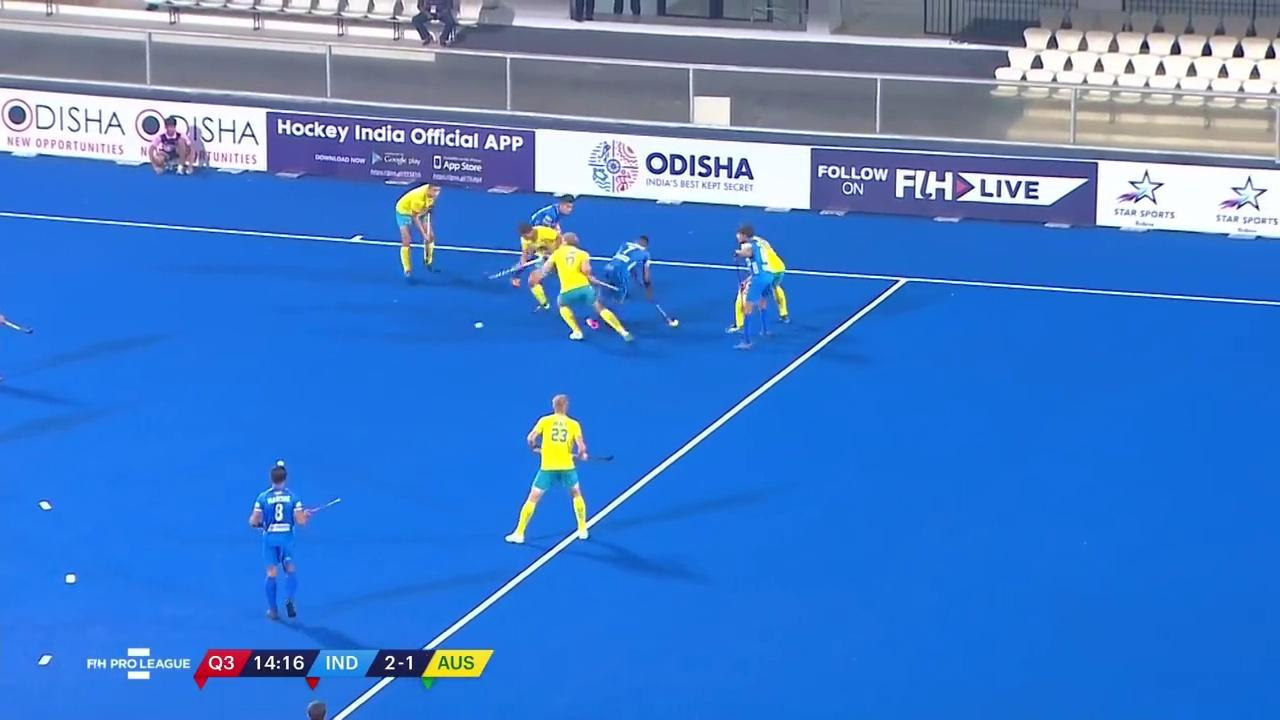ball: (468, 315, 490, 334)
